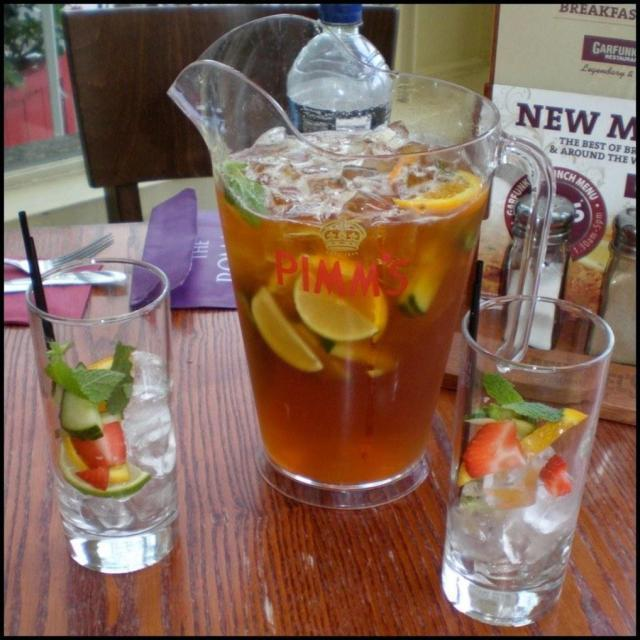Juice: (214, 128, 490, 490), (51, 355, 175, 536), (448, 420, 578, 590)
